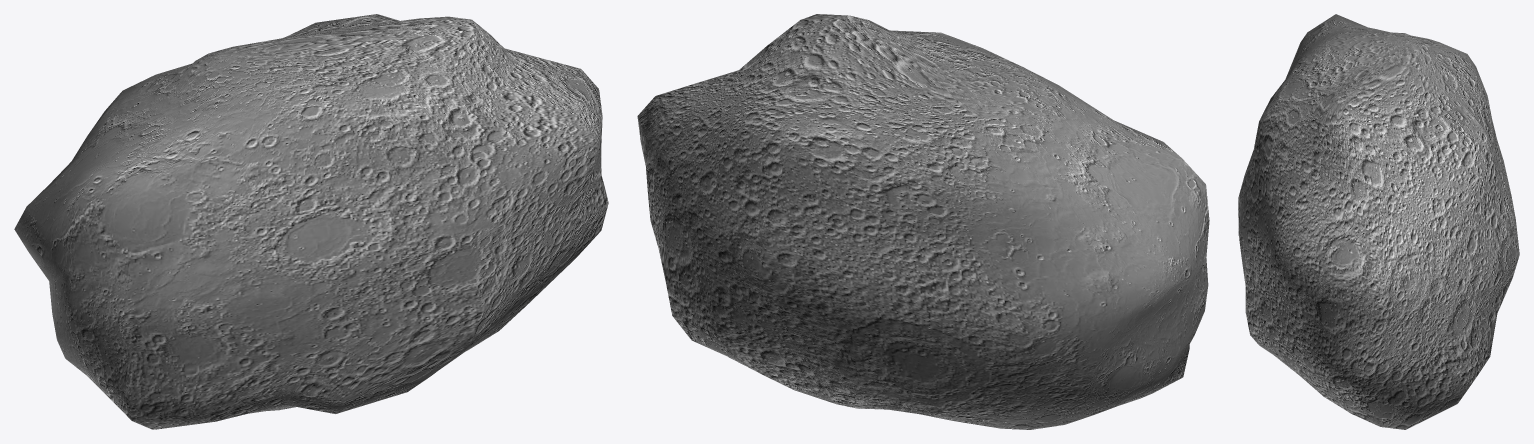
File: asteroid_B-2.fbx
The picture shows the model from 3 angles, left to right: view 1: azimuth 30°, elevation 25°; view 2: azimuth 150°, elevation 25°; view 3: azimuth 270°, elevation 25°; orthographic projection. The views are drawn at different scales.
Parts seen in each view (by area): view 1: asteroid_B_2; view 2: asteroid_B_2; view 3: asteroid_B_2.
Boxes of the visible parts, <box> form: asteroid_B_2: <box>14,14,608,429</box>; asteroid_B_2: <box>637,14,1209,429</box>; asteroid_B_2: <box>1238,14,1519,429</box>.
Bounding box in the file's own units: 23.22 × 14.15 × 11.63.
